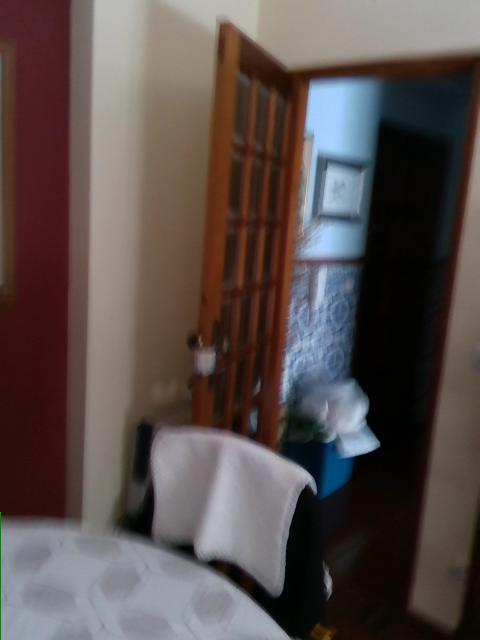door: (192, 21, 301, 456)
